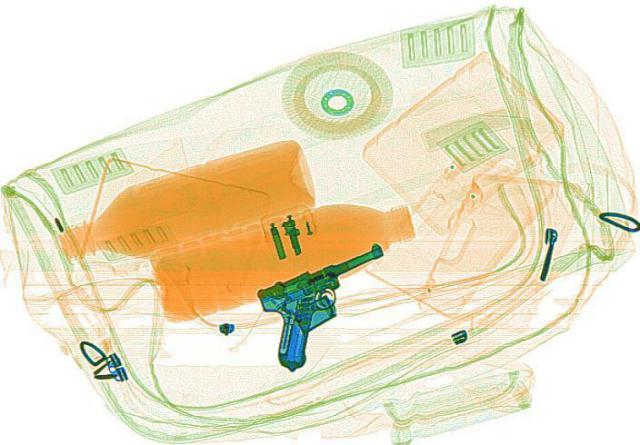Gun: (222, 243, 440, 371)
